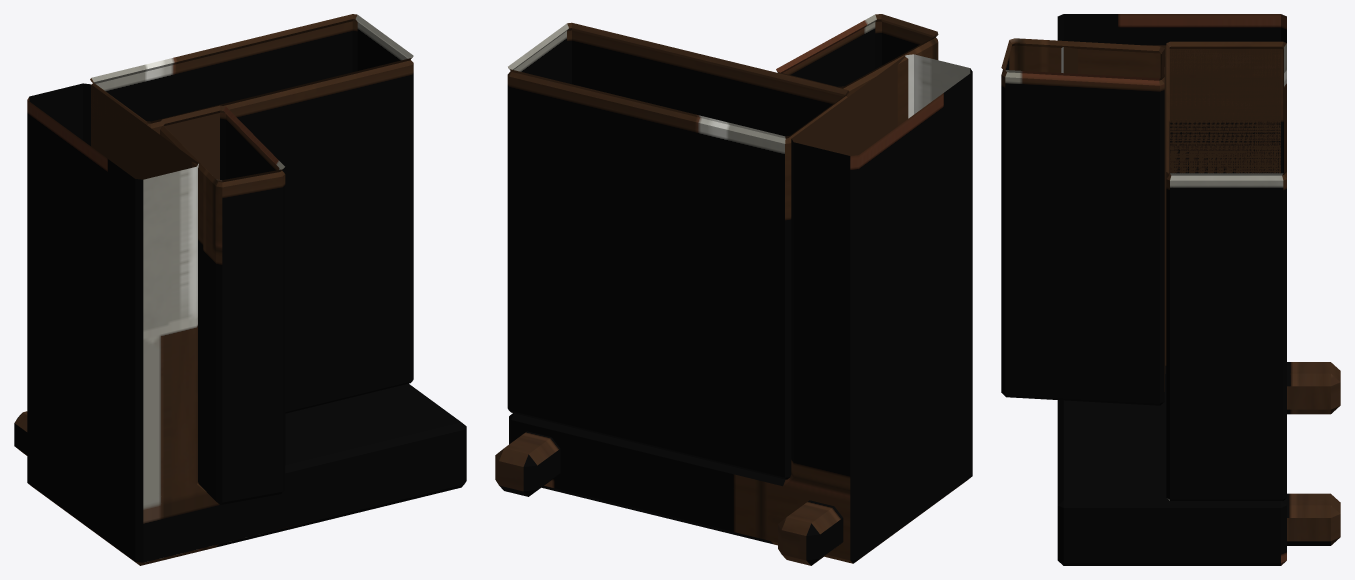
3 renders of one model, left to right at view 1: azimuth 30°, elevation 25°; view 2: azimuth 150°, elevation 25°; view 3: azimuth 270°, elevation 25°, orthographic. The views are drawn at different scales.
Size of the model in its own units: 0.8619 by 0.9742 by 0.7579.
